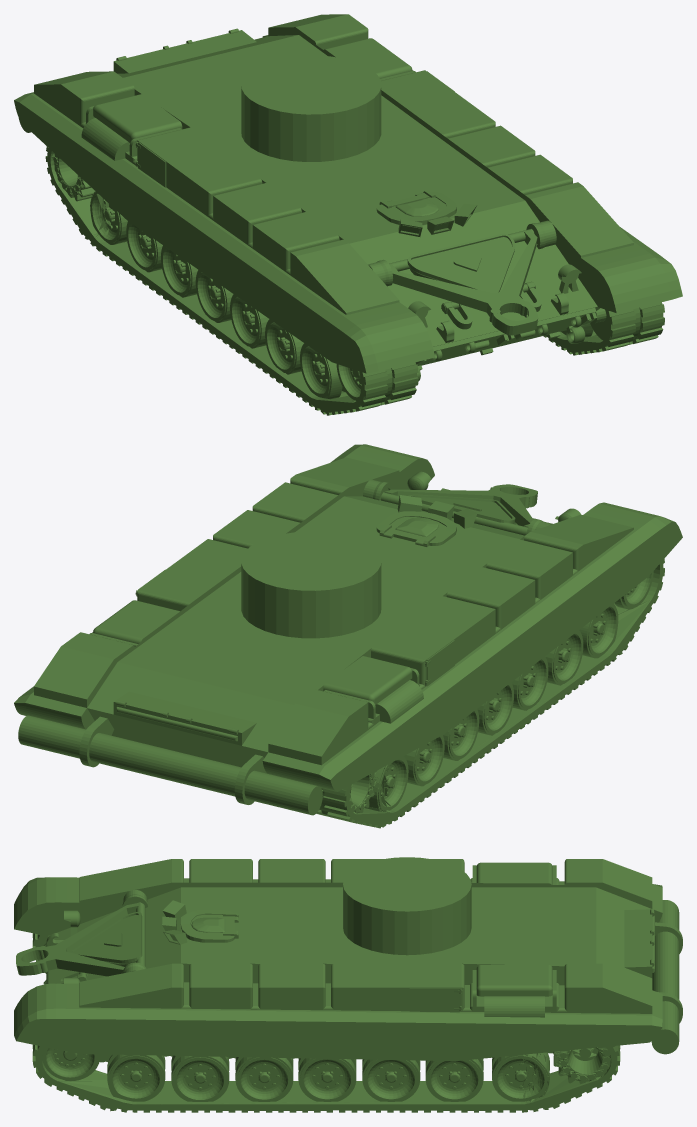
Rendered from МСТА корпус.fbx.
The picture shows the model from 3 angles, top to bottom: view 1: azimuth 30°, elevation 25°; view 2: azimuth 150°, elevation 25°; view 3: azimuth 270°, elevation 25°; orthographic projection. The views are drawn at different scales.
Visible parts, largest first — view 1: Цилиндр.013; view 2: Цилиндр.013; view 3: Цилиндр.013.
Part boxes in pixels (left/top/right/bottom): Цилиндр.013: left=14, top=14, right=682, bottom=415; Цилиндр.013: left=14, top=444, right=682, bottom=828; Цилиндр.013: left=14, top=857, right=682, bottom=1112.
Bounding box in the file's own units: 158 × 84.31 × 316.
